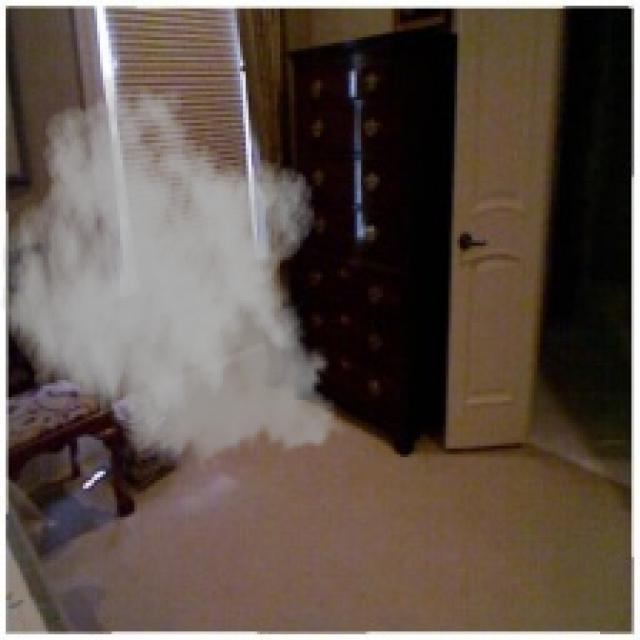Smoke: (0, 71, 352, 475)
